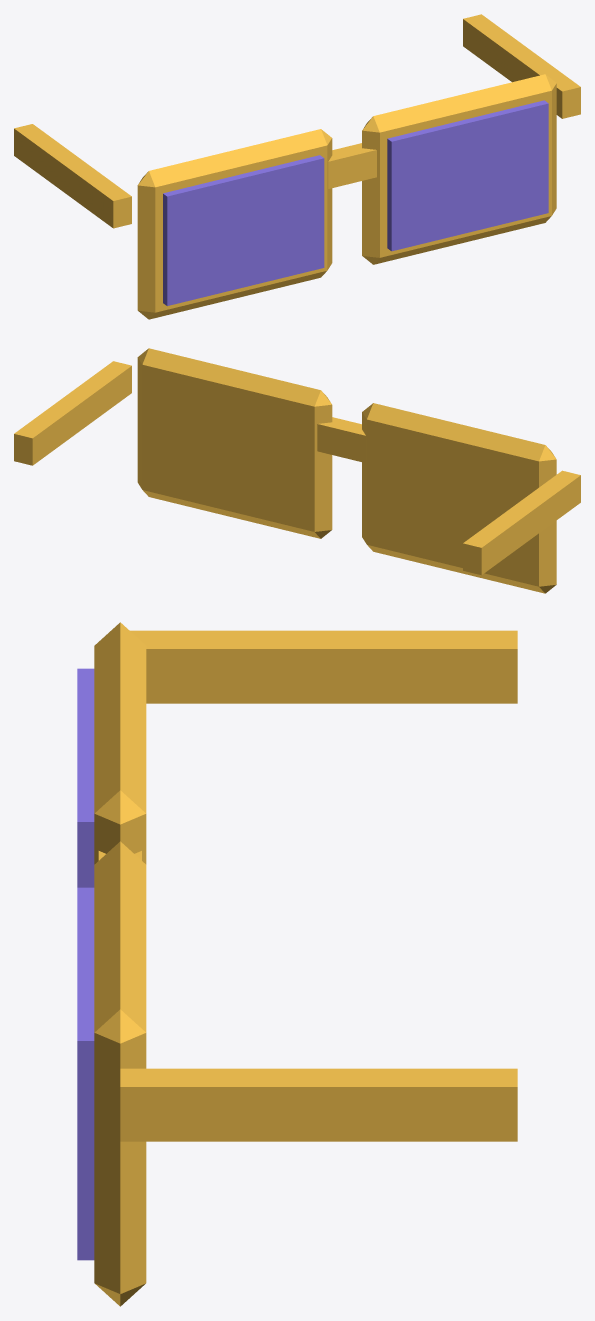
Rendered from CleanACat_NPC_StarShades.fbx.
3 views of the same model, one above another, from view 1: azimuth 30°, elevation 25°; view 2: azimuth 150°, elevation 25°; view 3: azimuth 270°, elevation 25° (orthographic). The views are drawn at different scales.
Parts seen in each view (by area): view 1: CleanACat_NPC_StarShades; view 2: CleanACat_NPC_StarShades; view 3: CleanACat_NPC_StarShades.
Boxes of the visible parts, x1,y1,x2,y2 form: CleanACat_NPC_StarShades: (14,14,580,319); CleanACat_NPC_StarShades: (14,348,580,593); CleanACat_NPC_StarShades: (77,622,517,1306).
Bounding box in the file's own units: 1.25 × 0.38 × 0.51.
1 material, 1 textured.
